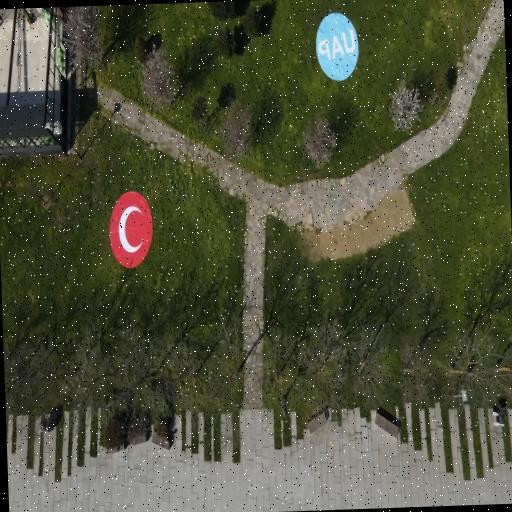UAP: (109, 191, 152, 267)
car: (316, 13, 358, 80)
